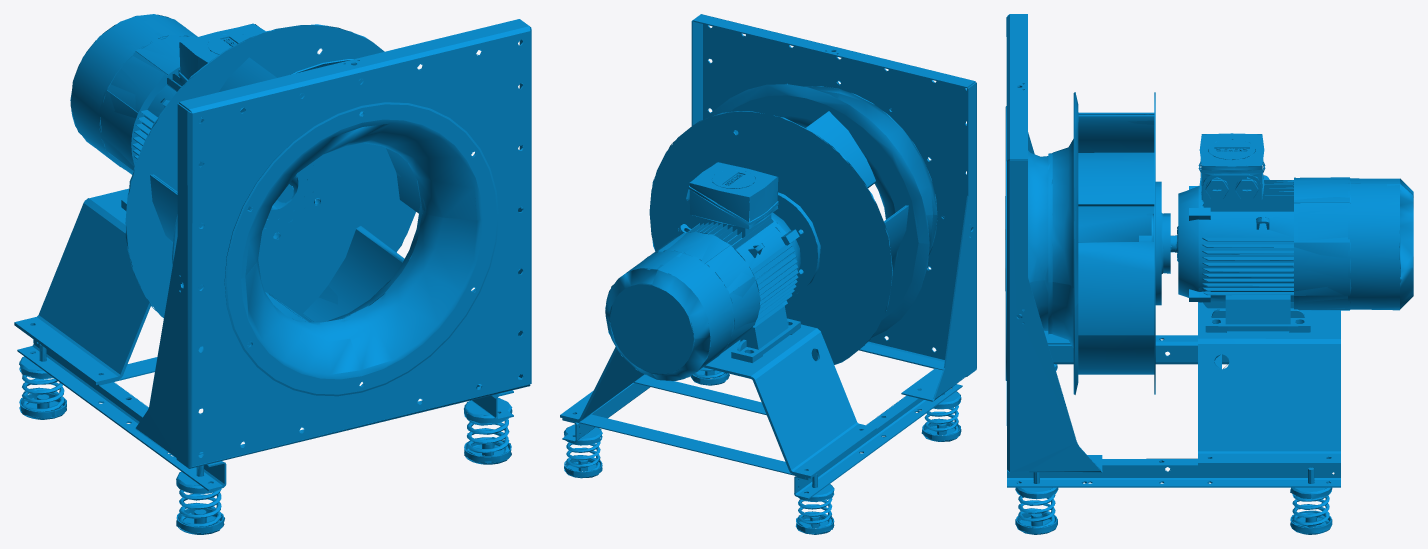
File: motorino.glb
The picture shows the model from 3 angles, left to right: view 1: azimuth 30°, elevation 25°; view 2: azimuth 150°, elevation 25°; view 3: azimuth 270°, elevation 25°; orthographic projection. The views are drawn at different scales.
Parts seen in each view (by area): view 1: R0001-PlugFan; view 2: R0001-PlugFan; view 3: R0001-PlugFan.
Boxes of the visible parts, x1,y1,x2,y2 form: R0001-PlugFan: (14,14,531,534); R0001-PlugFan: (560,14,976,534); R0001-PlugFan: (1005,14,1413,534).
Size of the model in its own units: 3.32 by 4 by 3.91.
